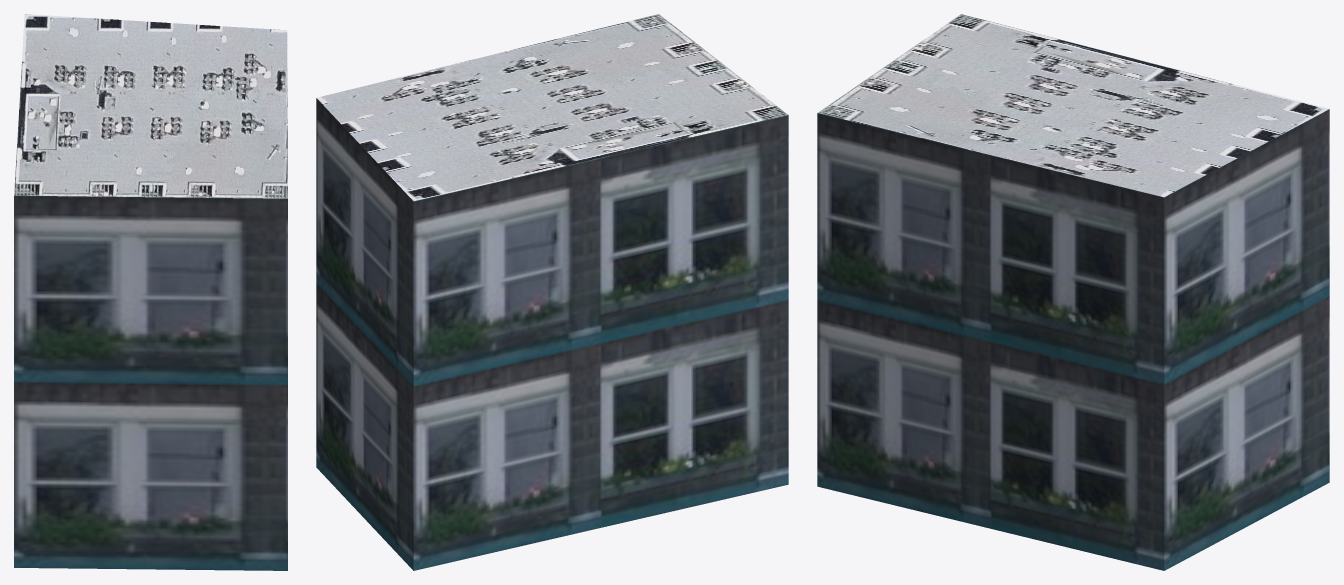
File: ResTex__2057.fbx
3 views of the same model, side by side, from view 1: azimuth 30°, elevation 25°; view 2: azimuth 150°, elevation 25°; view 3: azimuth 270°, elevation 25° (orthographic).
Parts seen in each view (by area): view 1: CityEngineMaterial_11_m, CityEngineMaterial_2_m; view 2: CityEngineMaterial_11_m, CityEngineMaterial_2_m; view 3: CityEngineMaterial_11_m, CityEngineMaterial_2_m.
Boxes of the visible parts, <box> form: CityEngineMaterial_11_m: <box>14,195,287,570</box>; CityEngineMaterial_2_m: <box>14,14,287,198</box>; CityEngineMaterial_11_m: <box>316,98,788,570</box>; CityEngineMaterial_2_m: <box>316,14,787,201</box>; CityEngineMaterial_11_m: <box>817,109,1329,570</box>; CityEngineMaterial_2_m: <box>818,14,1328,197</box>.
Size of the model in its own units: 6.32 by 6 by 7.45.
Materials: 2 (2 with a texture image).
